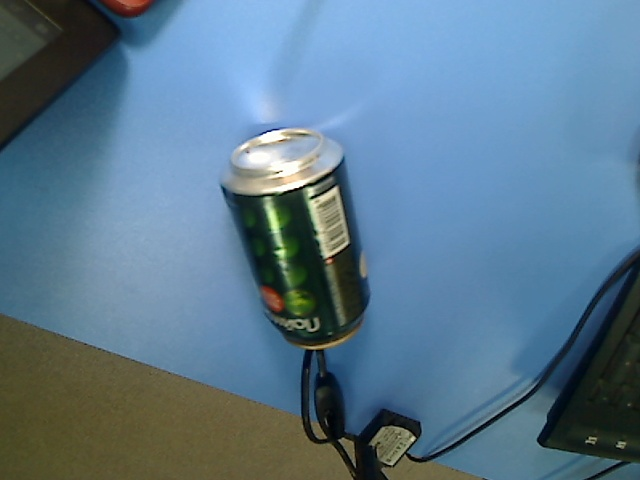can: (217, 125, 373, 352)
